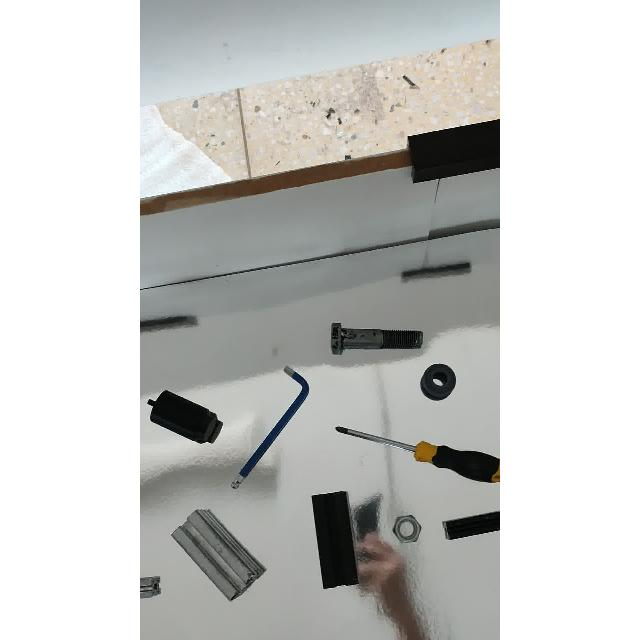AllenKey: (229, 363, 311, 493)
Bearing2: (419, 362, 457, 402)
F20_20_B: (438, 508, 500, 542)
F20_20_G: (140, 572, 162, 602)
M20: (391, 514, 423, 546)
M20_100: (327, 320, 425, 358)
Motor2: (146, 387, 224, 447)
S40_40_B: (310, 489, 362, 591)
S40_40_G: (169, 504, 267, 606)
Screwdriver: (334, 423, 500, 483)
